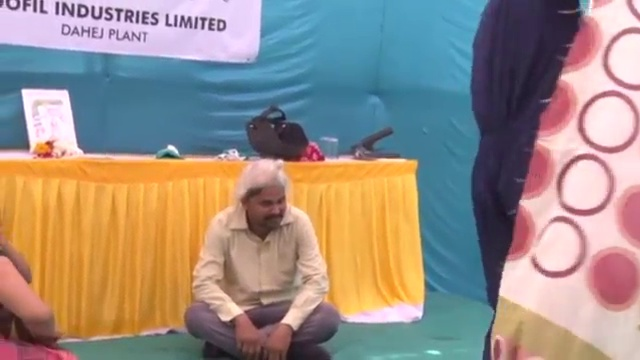helmet_off: (238, 165, 288, 234)
person: (470, 1, 589, 360), (181, 158, 341, 360)
